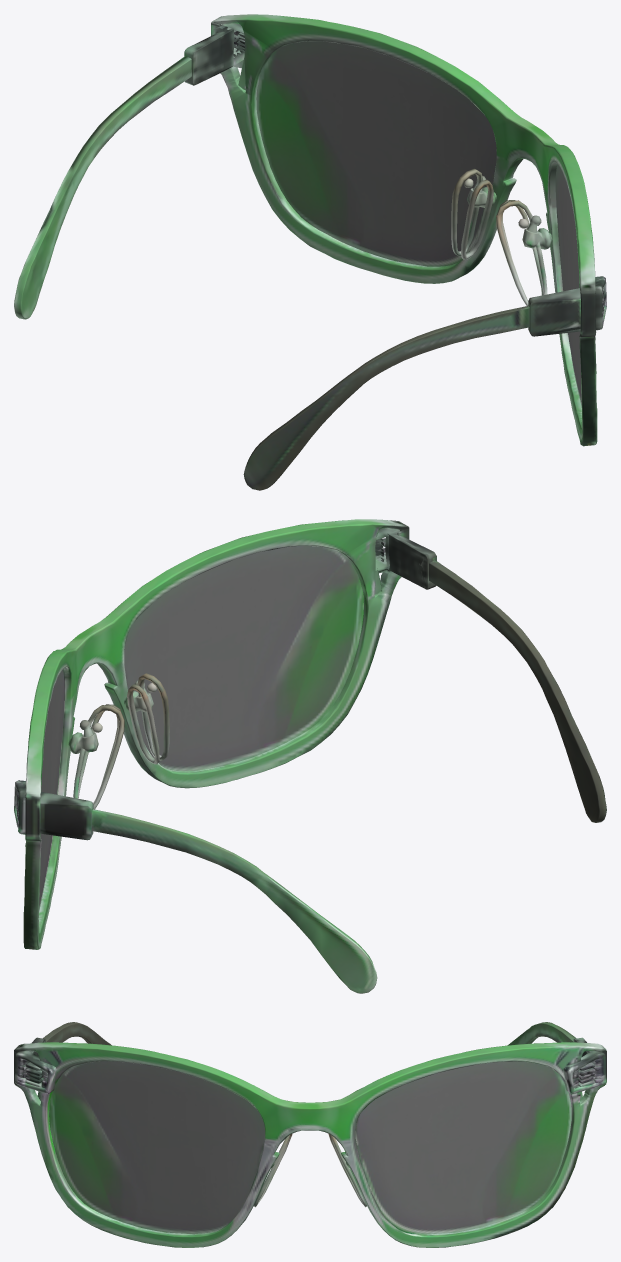
File: oculos_transparente_verde.glb
The picture shows the model from 3 angles, top to bottom: view 1: azimuth 30°, elevation 25°; view 2: azimuth 150°, elevation 25°; view 3: azimuth 270°, elevation 25°; orthographic projection. The views are drawn at different scales.
Visible parts, largest first — view 1: oculos_transparente_verde; view 2: oculos_transparente_verde; view 3: oculos_transparente_verde.
Part boxes in pixels (box(x1,y1,x2,y2)): oculos_transparente_verde: box(14, 14, 606, 490); oculos_transparente_verde: box(14, 519, 606, 993); oculos_transparente_verde: box(14, 1022, 606, 1247).
Size of the model in its own units: 0.2993 by 0.1631 by 0.4702.
1 material, 1 textured.
